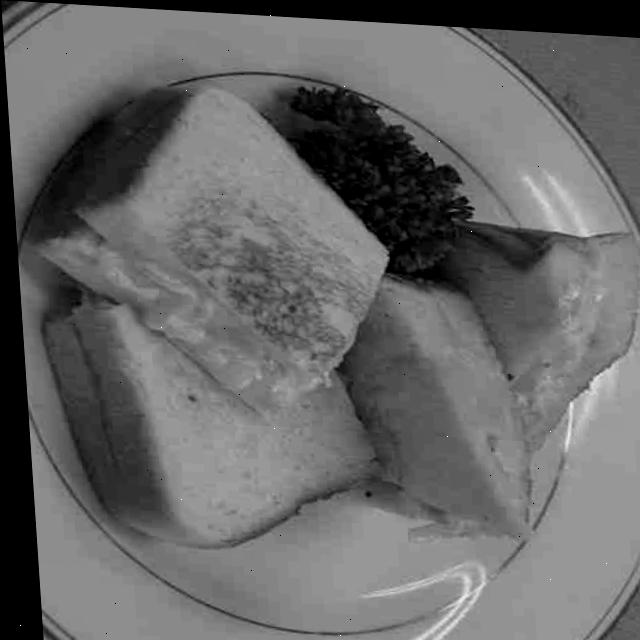面包点心: (48, 92, 640, 578)
